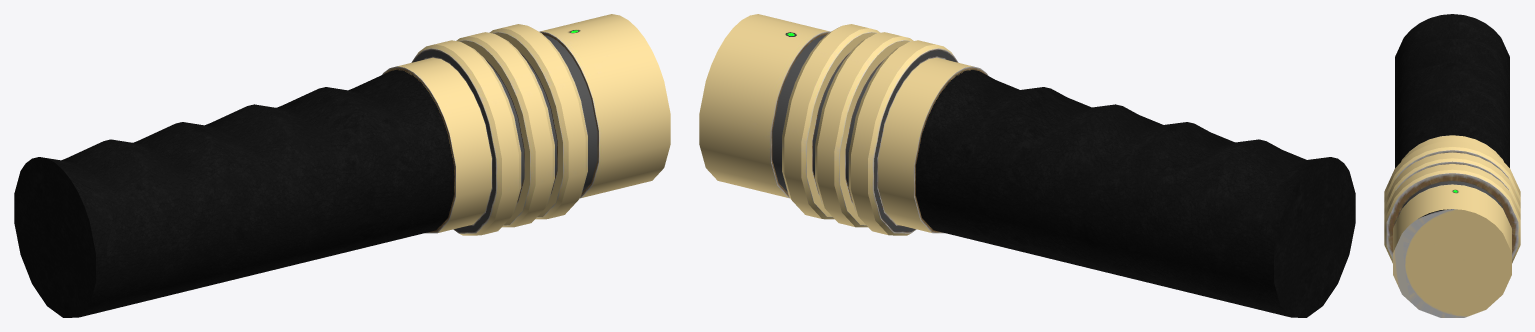
Rendered from grip_11_c_b.glb.
3 renders of one model, left to right at view 1: azimuth 30°, elevation 25°; view 2: azimuth 150°, elevation 25°; view 3: azimuth 270°, elevation 25°, orthographic. The views are drawn at different scales.
Parts seen in each view (by area): view 1: grip_11_c_b_lod0; view 2: grip_11_c_b_lod0; view 3: grip_11_c_b_lod0.
Boxes of the visible parts, bbox=[...] form: grip_11_c_b_lod0: bbox=[14, 14, 670, 317]; grip_11_c_b_lod0: bbox=[699, 14, 1355, 317]; grip_11_c_b_lod0: bbox=[1384, 14, 1520, 317].
Size of what is drawn, in the model's own units: 0.1055 by 0.0312 by 0.0309.
Materials: 1 (1 with a texture image).
